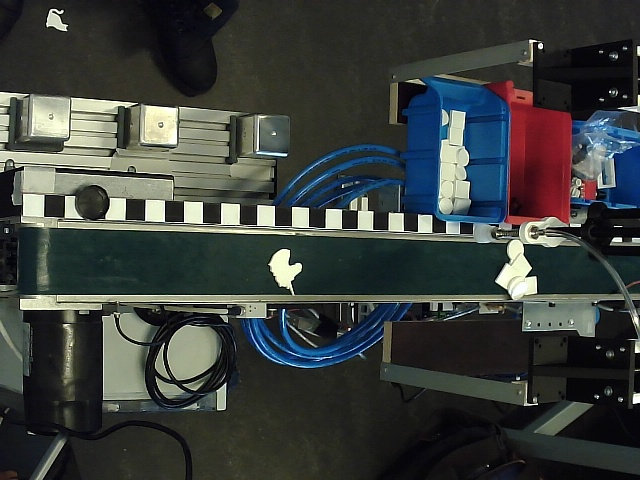unicorn: (268, 248, 304, 297)
